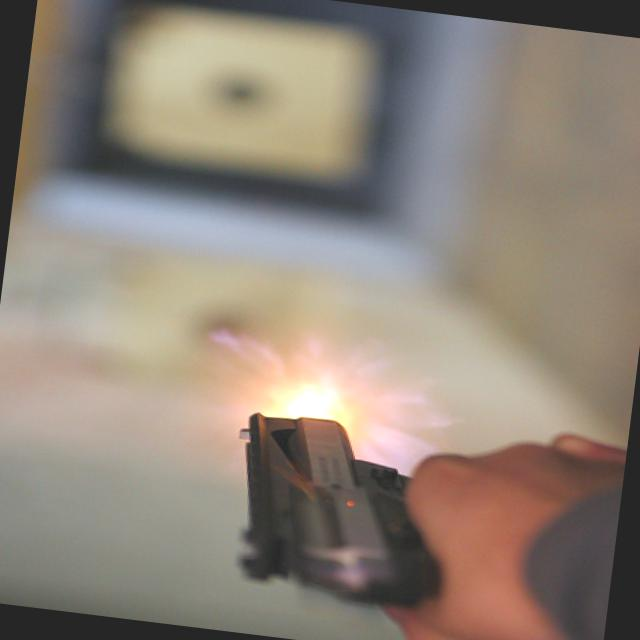handgun: (209, 409, 463, 616)
